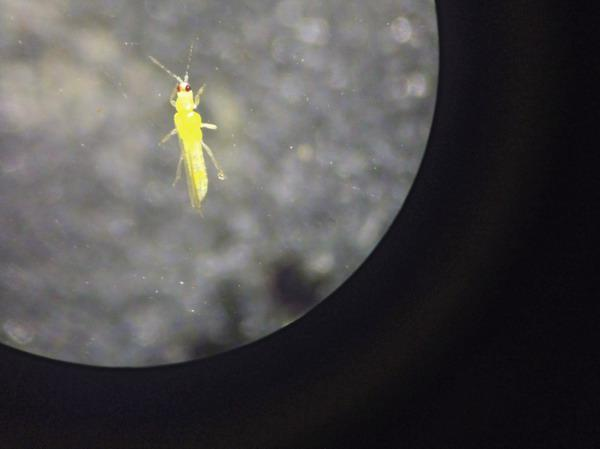tiny_pests: (116, 24, 281, 248)
